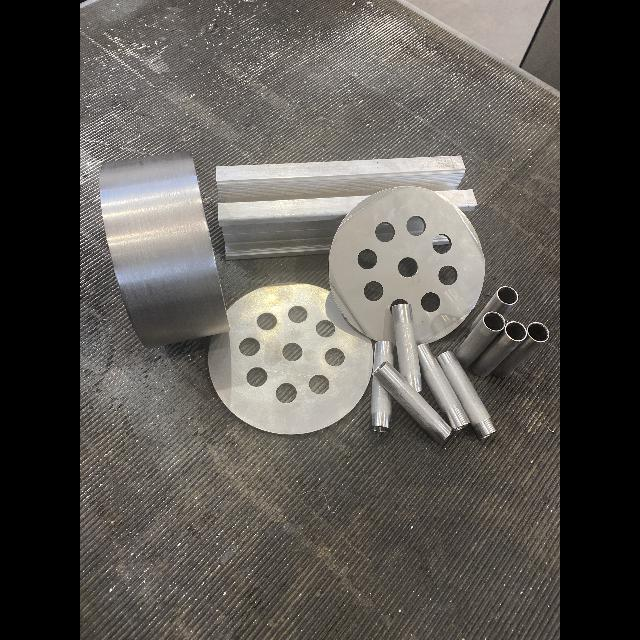Aluminium: (216, 156, 476, 260), (376, 224, 392, 241), (408, 217, 423, 234), (433, 235, 449, 244)
Stainless Steel: (100, 152, 229, 347), (209, 282, 374, 434), (329, 188, 484, 345), (373, 361, 452, 442), (437, 351, 495, 439), (418, 344, 470, 429), (492, 322, 549, 377), (472, 321, 527, 376), (391, 302, 422, 392), (456, 316, 505, 367), (470, 286, 518, 331), (371, 378, 392, 431), (373, 340, 394, 374)
